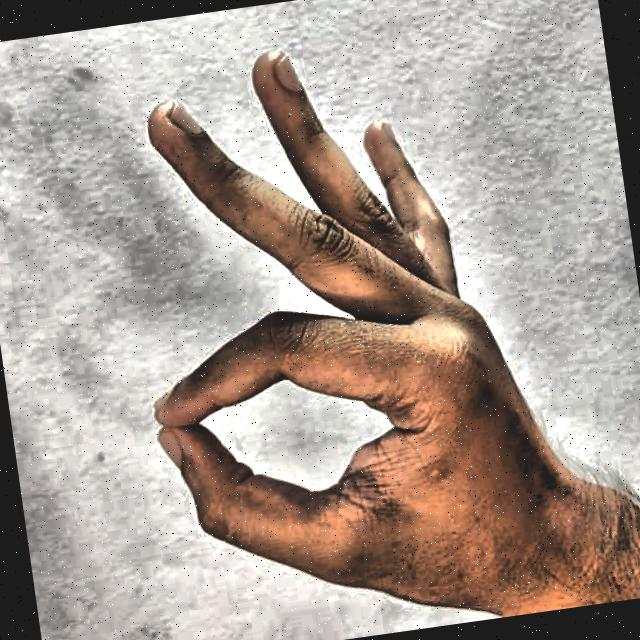Ca: (85, 0, 608, 640)
